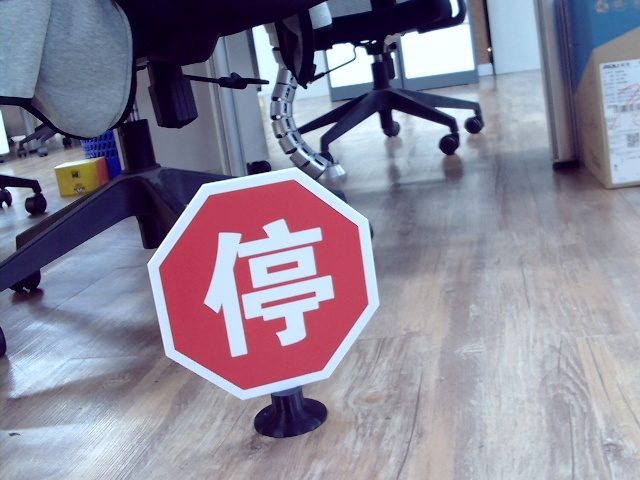stop: (200, 220, 334, 351)
